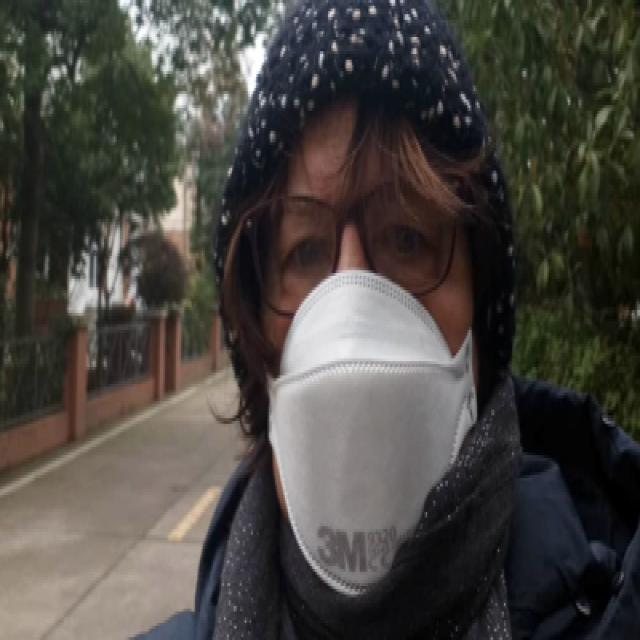with_mask: (260, 150, 478, 594)
